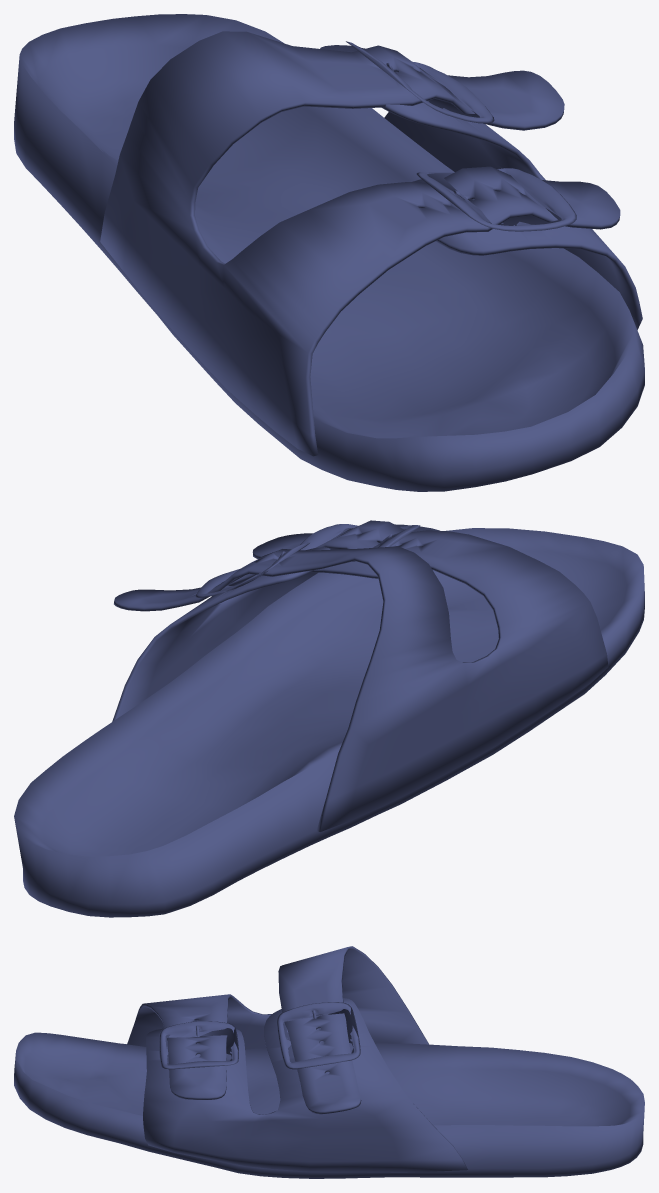
The model's file is sandal.obj.
The picture shows the model from 3 angles, top to bottom: view 1: azimuth 30°, elevation 25°; view 2: azimuth 150°, elevation 25°; view 3: azimuth 270°, elevation 25°; orthographic projection. The views are drawn at different scales.
Size of the model in its own units: 5.26 by 3.46 by 11.71.
